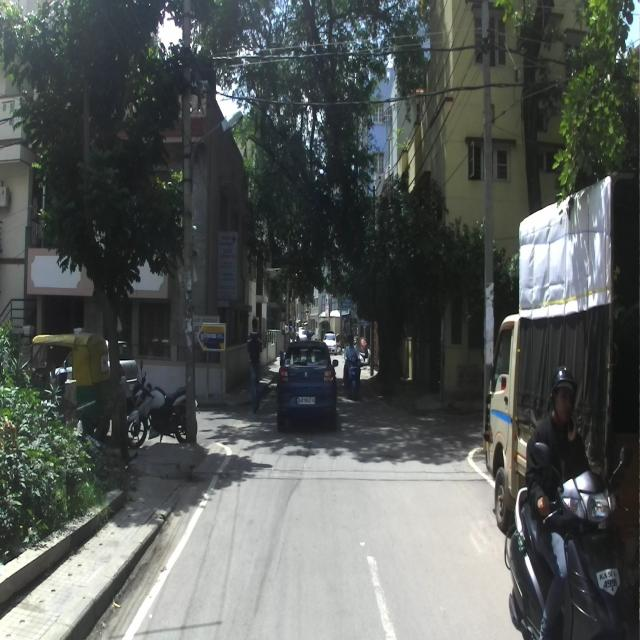autorickshaw: (29, 330, 111, 441)
car: (276, 338, 338, 434)
motorcycle: (127, 360, 199, 448)
scooter: (502, 438, 638, 638)
truck: (482, 166, 639, 532)
